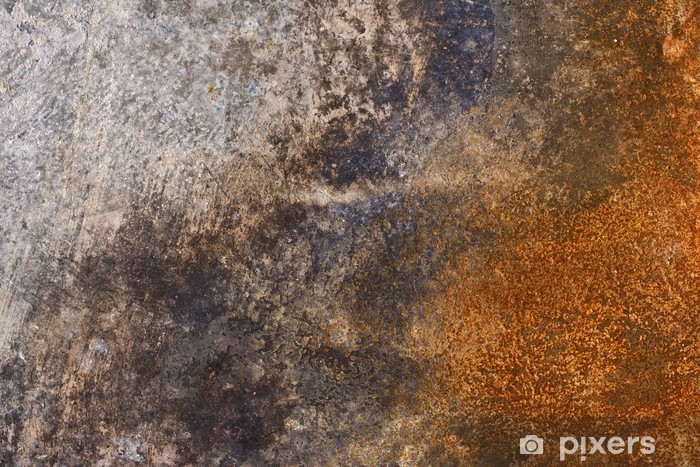rust: (409, 3, 700, 467)
